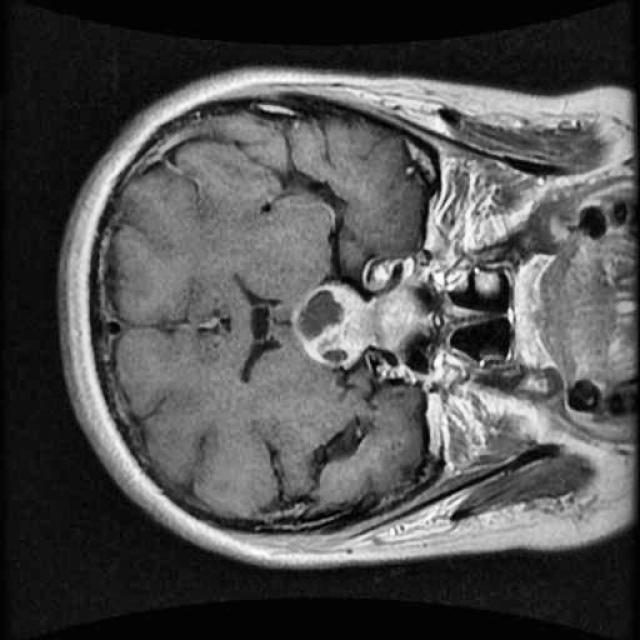Tumor: (285, 271, 434, 378)
